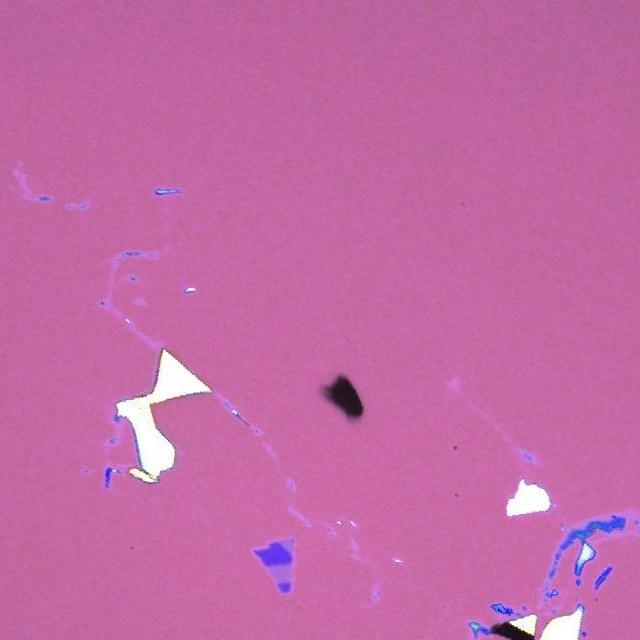monolayer-eWW4: (266, 564, 290, 583), (278, 538, 292, 554)
